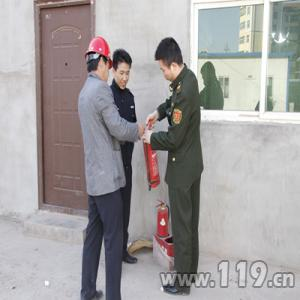none: (157, 36, 183, 83), (112, 49, 132, 89)
red: (87, 38, 112, 82)
